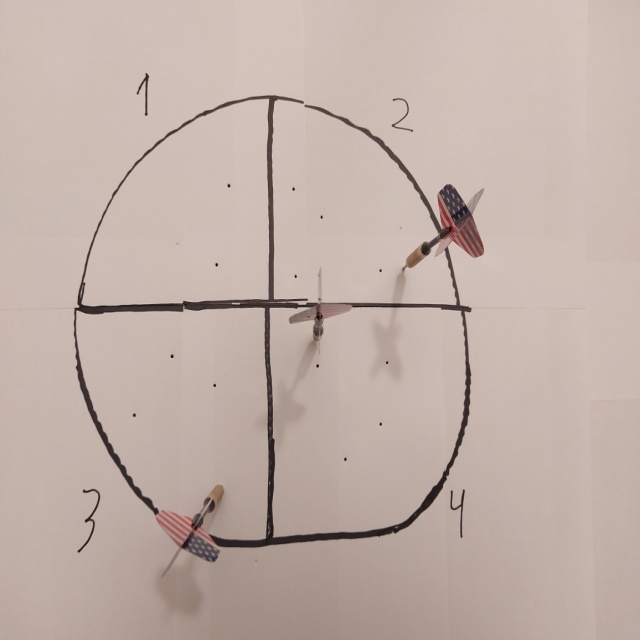Dart: (399, 181, 489, 277), (152, 481, 233, 582), (284, 266, 353, 354)
